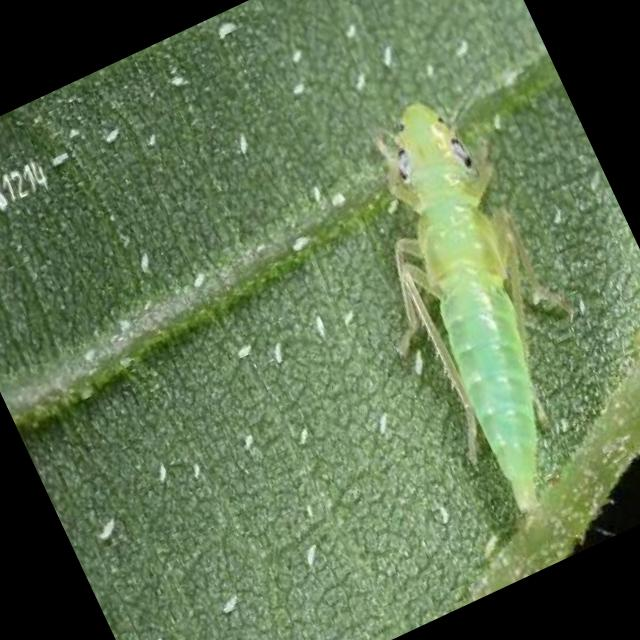green-leafhopper: (369, 99, 575, 516)
